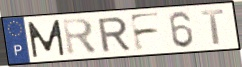6: (168, 9, 196, 50)
F: (128, 11, 163, 53)
M: (26, 19, 67, 60)
R: (60, 16, 100, 57), (96, 15, 132, 54)
T: (199, 8, 226, 47)
